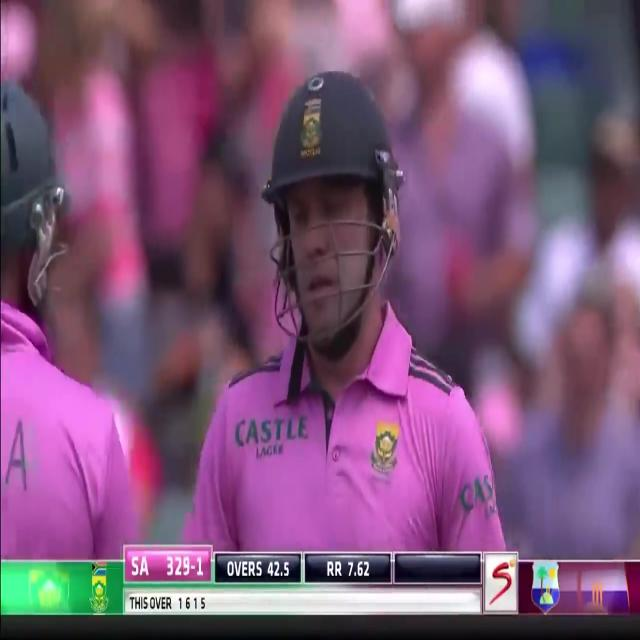Ball: (188, 49, 510, 554), (0, 33, 136, 561)
